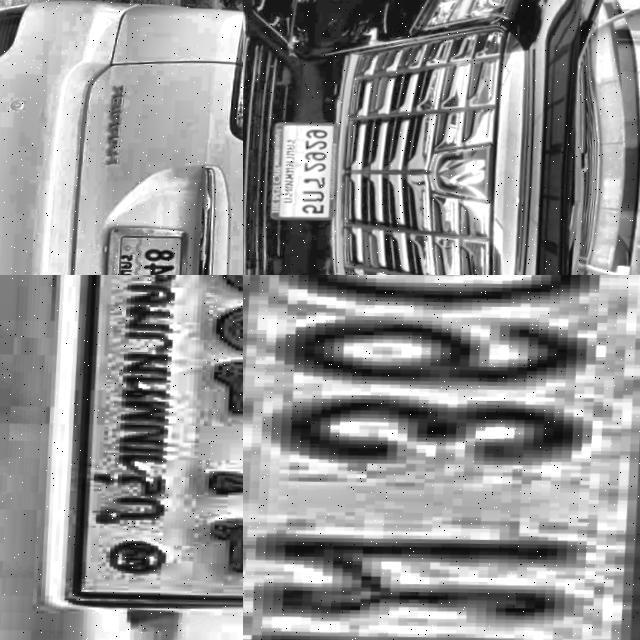license-plate: (243, 275, 640, 640), (76, 275, 243, 610), (268, 120, 346, 220), (101, 221, 197, 275)
